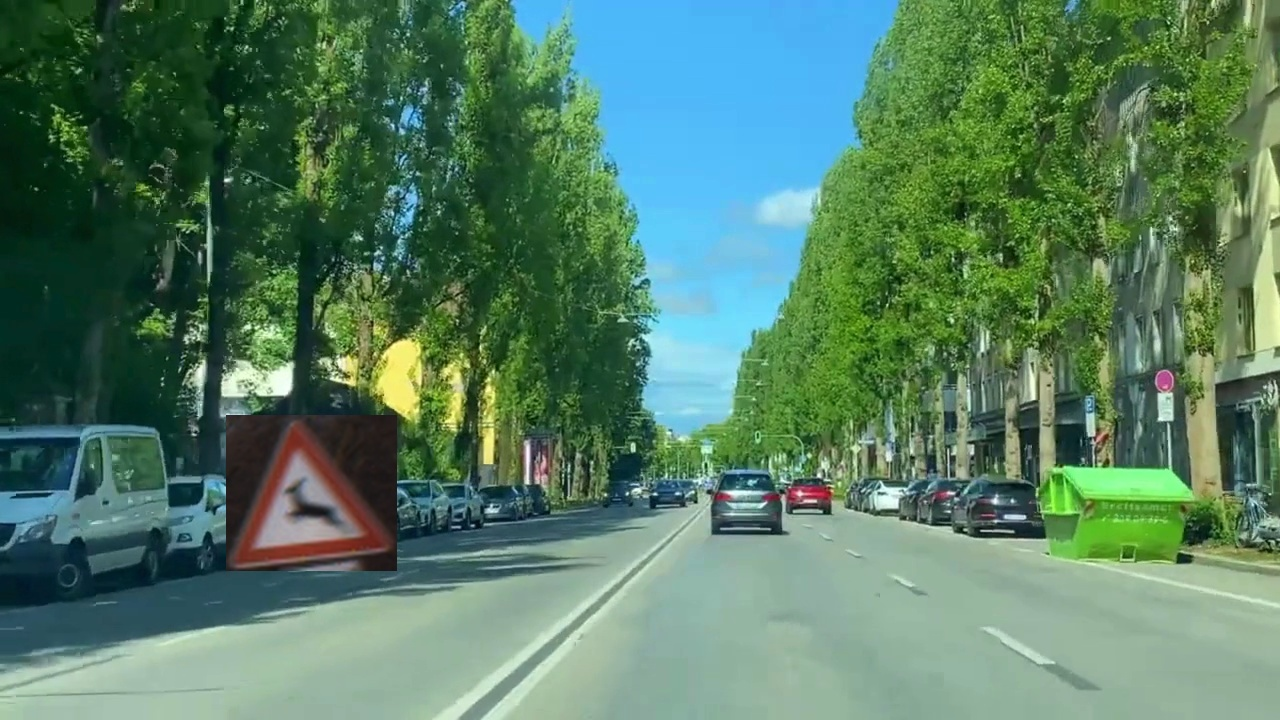Wild animals: (226, 415, 397, 571)
